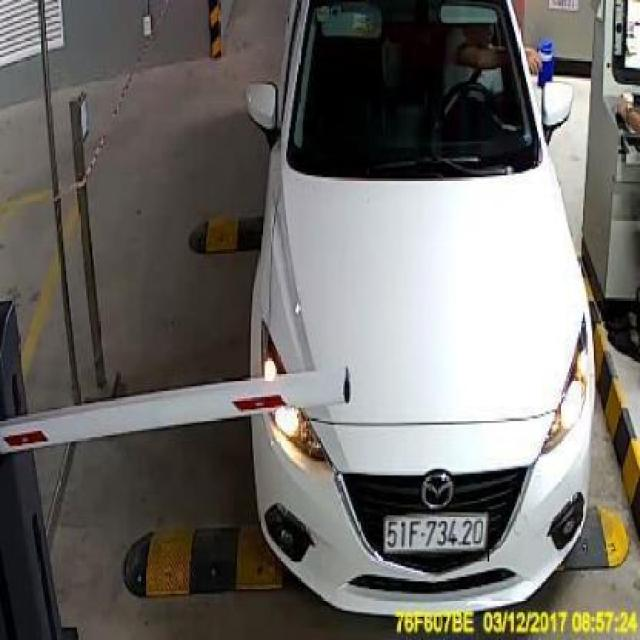number_plate: (383, 509, 489, 562)
